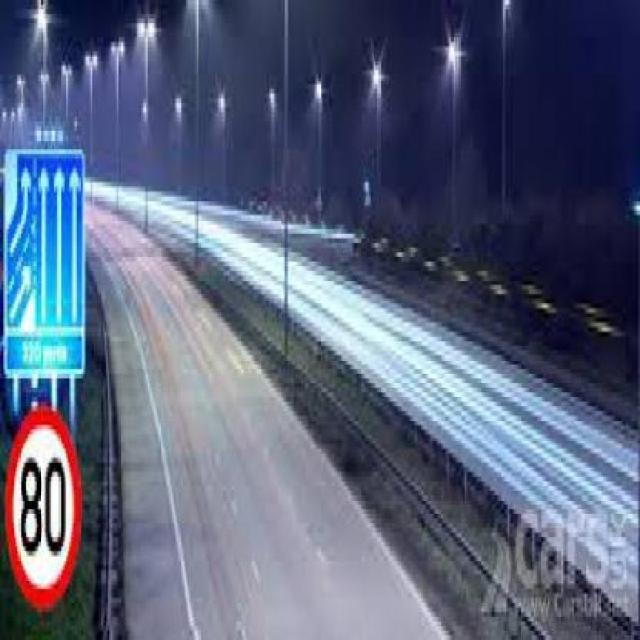forb_speed_over_80: (7, 407, 82, 621)
